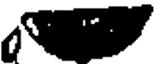Basket: (1, 2, 156, 63)
